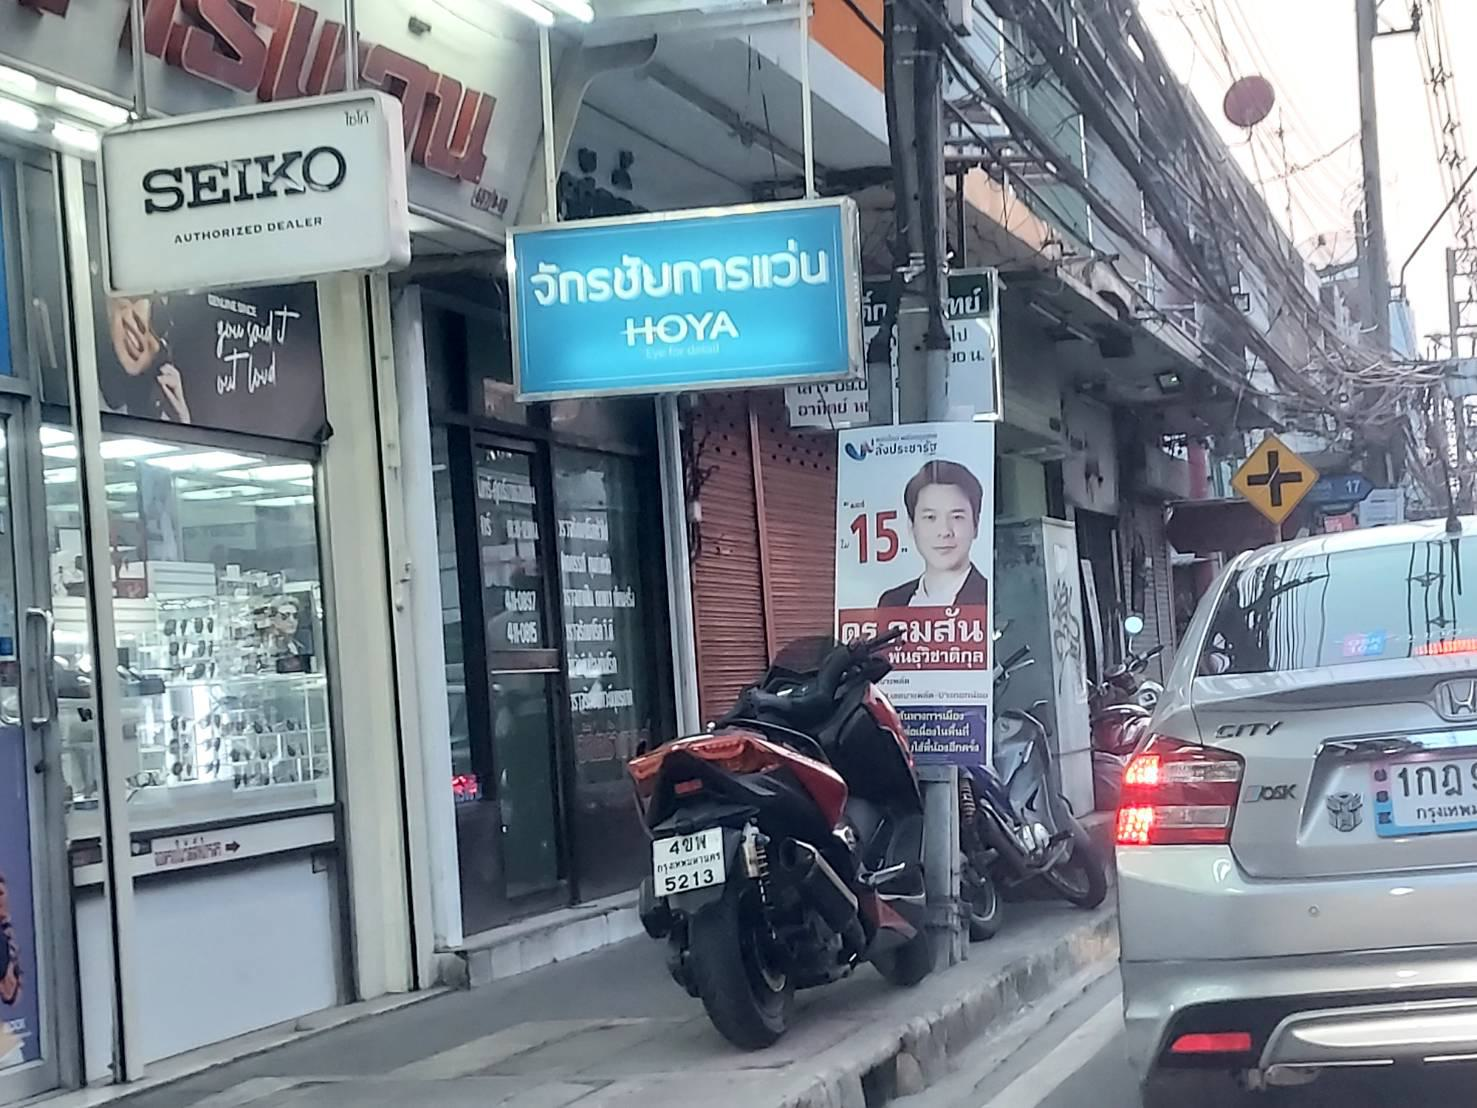Banner: (839, 416, 992, 762)
